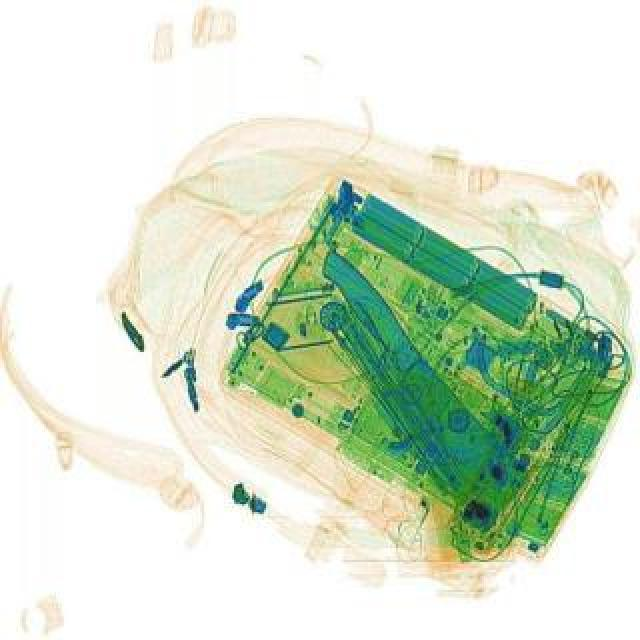knife: (272, 238, 536, 526)
